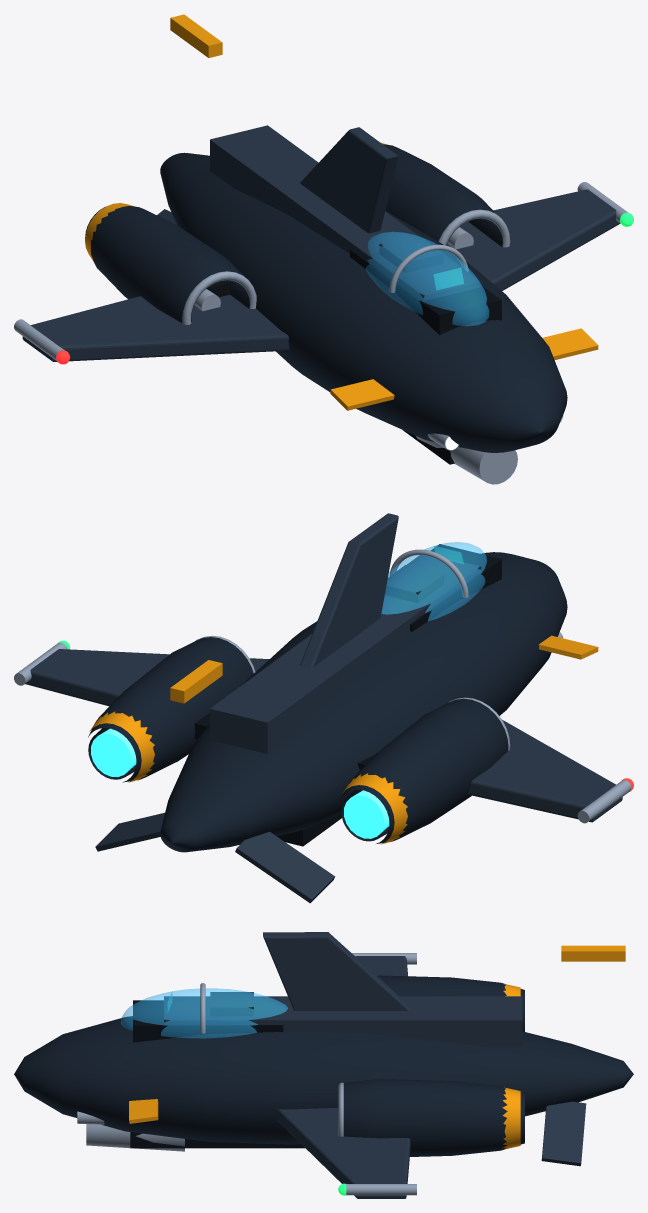
The model's file is federation_sub.glb.
The picture shows the model from 3 angles, top to bottom: view 1: azimuth 30°, elevation 25°; view 2: azimuth 150°, elevation 25°; view 3: azimuth 270°, elevation 25°; orthographic projection. The views are drawn at different scales.
Visible parts, largest first — view 1: Main_Pressure_Hull, Dorsal_Spine_Fairing, Port_Hydro_Wing, Port_Jet_Shroud, Starboard_Hydro_Wing, Acrylic_Pressure_Canopy, Dorsal_Vertical_Stabilizer, Starboard_Jet_Shroud, Triton_X9_Jet_Submarine, Cockpit_Tub, Port_Pumpjet_Nacelle, Forward_Sonar_Array (+4 smaller); view 2: Main_Pressure_Hull, Dorsal_Spine_Fairing, Port_Jet_Shroud, Starboard_Jet_Shroud, Port_Hydro_Wing, Dorsal_Vertical_Stabilizer, Acrylic_Pressure_Canopy, Starboard_Hydro_Wing, Triton_X9_Jet_Submarine, Port_Aft_Stabilizer_Pivot, Cockpit_Tub, Starboard_Pumpjet_Nacelle (+7 smaller); view 3: Main_Pressure_Hull, Starboard_Jet_Shroud, Dorsal_Spine_Fairing, Dorsal_Vertical_Stabilizer, Starboard_Hydro_Wing, Acrylic_Pressure_Canopy, Triton_X9_Jet_Submarine, Starboard_Aft_Stabilizer_Pivot, Cockpit_Tub, Port_Jet_Shroud, Forward_Sonar_Array, Starboard_Pumpjet_Nacelle (+3 smaller).
Part boxes in pixels (x1,y1,x2,y2): Main_Pressure_Hull: [160, 152, 567, 452]; Dorsal_Spine_Fairing: [210, 125, 481, 301]; Port_Hydro_Wing: [22, 294, 289, 361]; Port_Jet_Shroud: [85, 206, 249, 323]; Starboard_Hydro_Wing: [446, 189, 620, 290]; Acrylic_Pressure_Canopy: [366, 231, 489, 326]; Dorsal_Vertical_Stabilizer: [300, 127, 398, 233]; Starboard_Jet_Shroud: [383, 144, 502, 246]; Triton_X9_Jet_Submarine: [14, 14, 633, 450]; Cockpit_Tub: [350, 249, 501, 335]; Port_Pumpjet_Nacelle: [85, 203, 256, 324]; Forward_Sonar_Array: [416, 436, 517, 484]; Main_Pressure_Hull: [160, 552, 567, 852]; Dorsal_Spine_Fairing: [210, 555, 481, 754]; Port_Jet_Shroud: [341, 698, 508, 843]; Starboard_Jet_Shroud: [88, 637, 253, 782]; Port_Hydro_Wing: [468, 720, 622, 822]; Dorsal_Vertical_Stabilizer: [300, 513, 398, 667]; Acrylic_Pressure_Canopy: [381, 542, 486, 621]; Starboard_Hydro_Wing: [25, 649, 269, 706]; Triton_X9_Jet_Submarine: [14, 546, 633, 823]; Port_Aft_Stabilizer_Pivot: [235, 831, 335, 903]; Cockpit_Tub: [410, 544, 501, 631]; Starboard_Pumpjet_Nacelle: [89, 635, 255, 782]; Main_Pressure_Hull: [14, 1016, 633, 1144]; Starboard_Jet_Shroud: [343, 1079, 524, 1156]; Dorsal_Spine_Fairing: [164, 996, 522, 1046]; Dorsal_Vertical_Stabilizer: [263, 932, 410, 1010]; Starboard_Hydro_Wing: [277, 1108, 410, 1198]; Acrylic_Pressure_Canopy: [121, 988, 287, 1038]; Triton_X9_Jet_Submarine: [77, 945, 625, 1195]; Starboard_Aft_Stabilizer_Pivot: [541, 1101, 586, 1166]; Cockpit_Tub: [133, 1000, 283, 1042]; Port_Jet_Shroud: [377, 975, 524, 1031]; Forward_Sonar_Array: [86, 1124, 184, 1151]; Starboard_Pumpjet_Nacelle: [338, 1082, 520, 1149].
Bounding box in the file's own units: 5.38 × 2.29 × 5.97.
